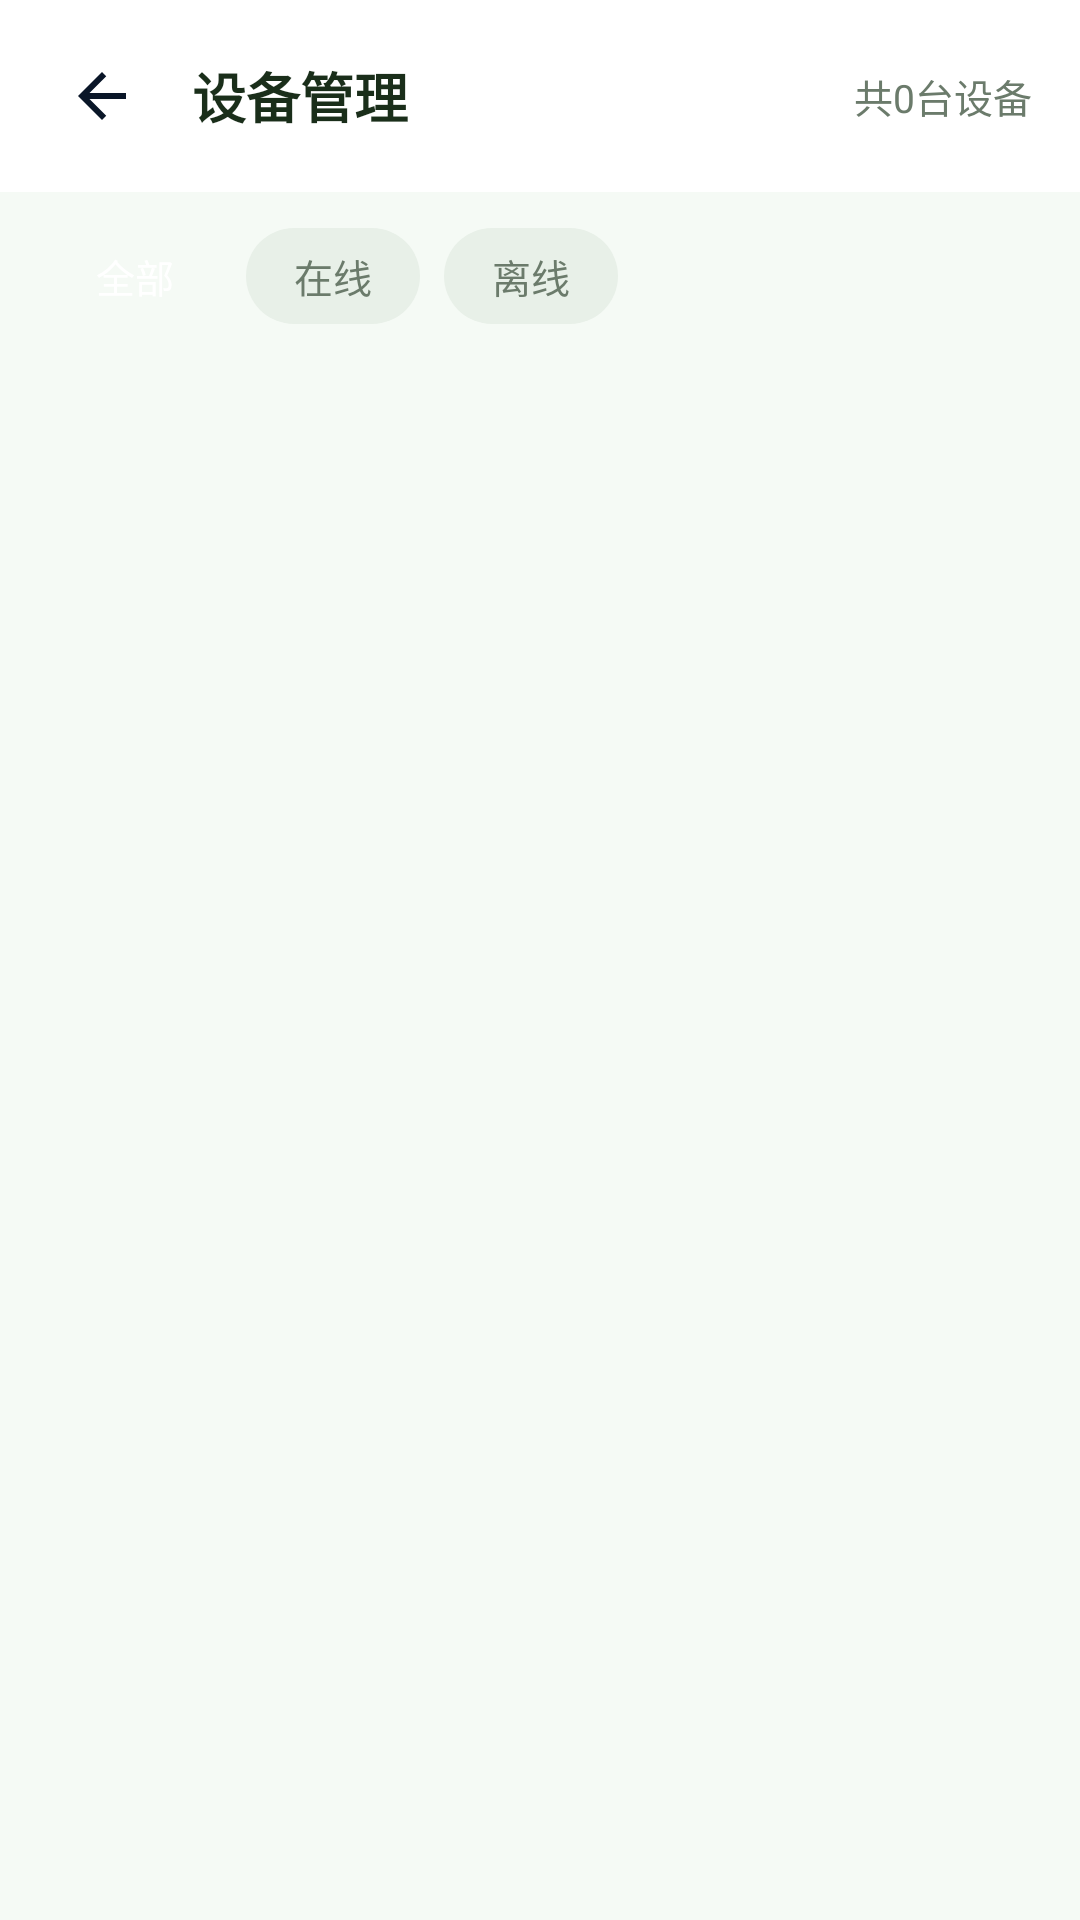

Screen size 1080x1920. Icon name, then its box in pixels as [x1,y1,x2,y2]:
返回: [78,72,126,120]
